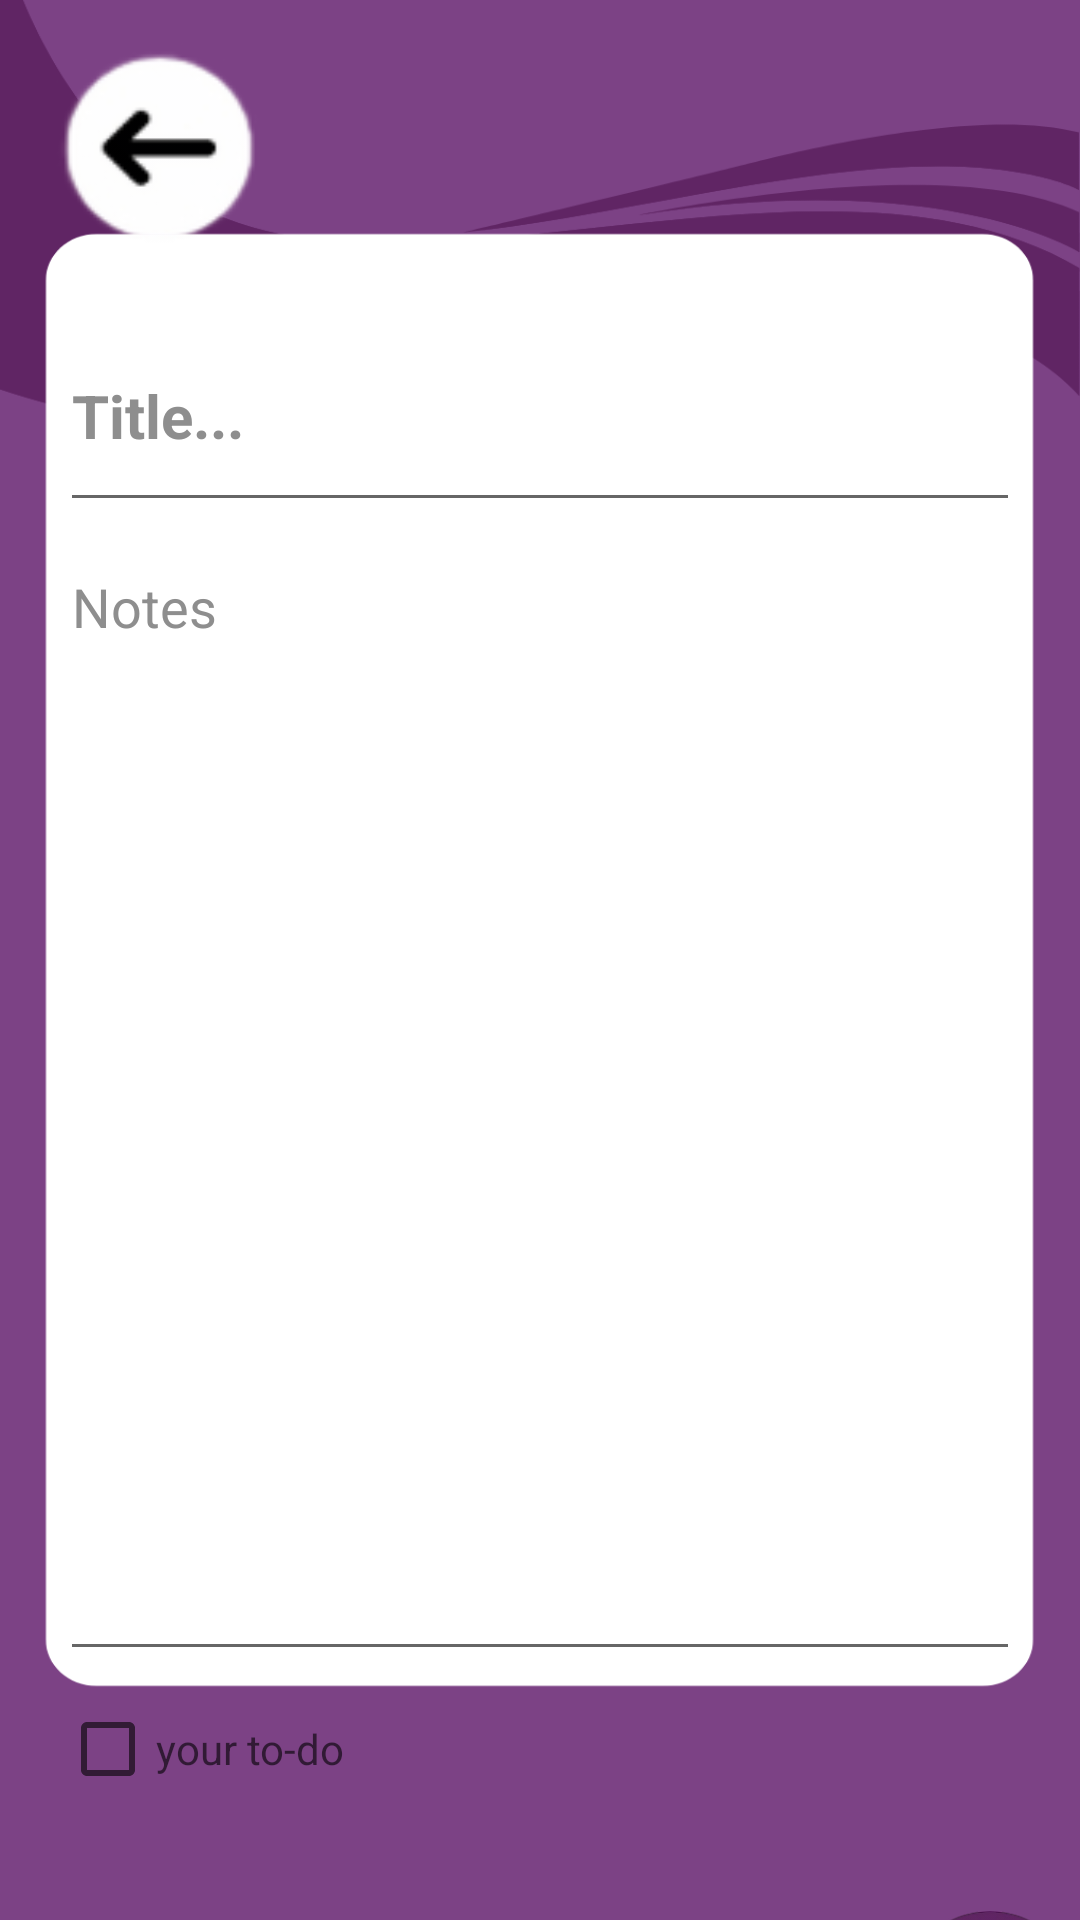

Icon click points for this 1080w x 1920h phone screenshot, format (x=x, y=y):
Back: (x=150, y=150)
